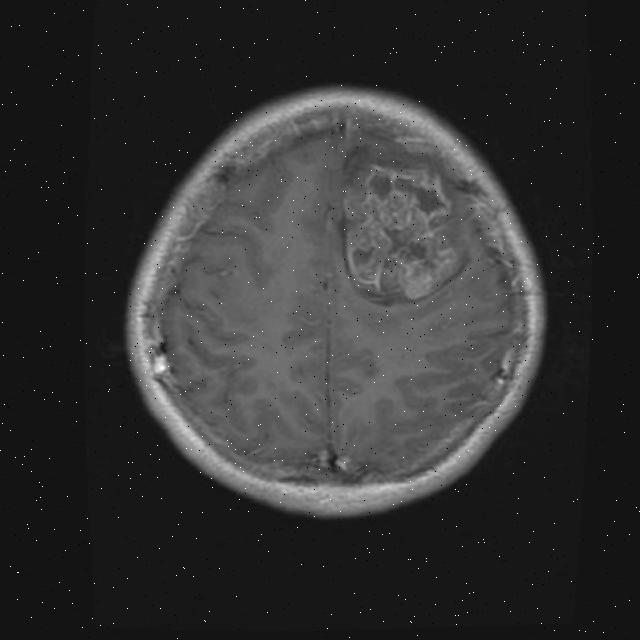Glioma: (330, 139, 474, 310)
